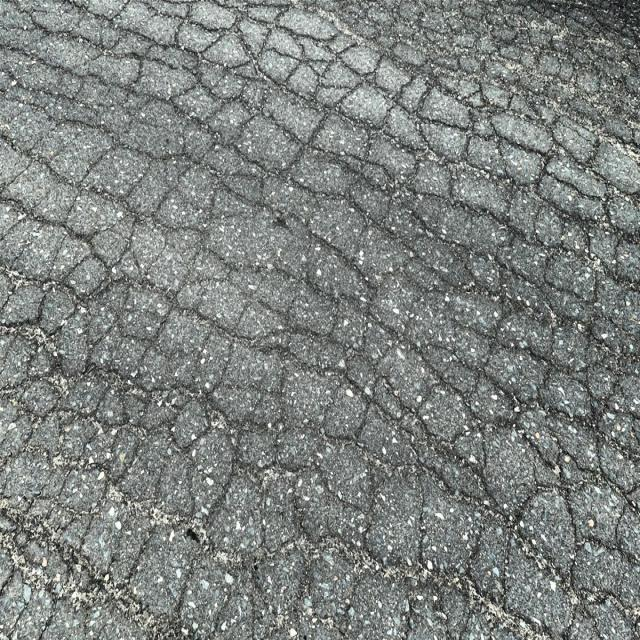Drain Hole: (12, 17, 640, 640)
